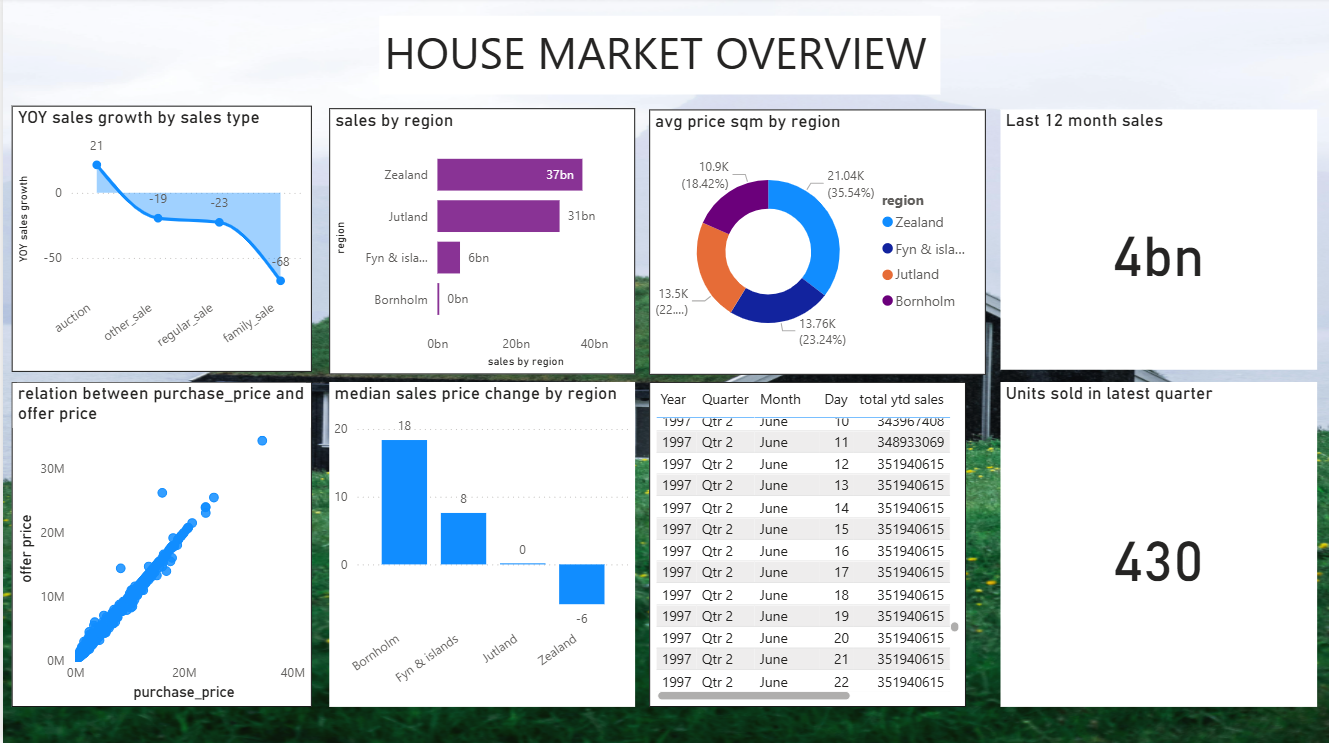

Layout of this report page (visuals, bound fields, positions):
{"tool":"powerbi","page":{"name":" Page 1","canvas":[1280,720],"ordinal":0},"visuals":[{"type":"textbox","box":[363.2,18.3,541.7,75.8],"z":1000},{"type":"lineChart","title":"YOY sales growth by sales type","fields":{"Y":["Housing Data.YOY sales growth"],"Category":["Housing Data.sales_type"]},"box":[8.4,105,289.5,257],"z":1001},{"type":"scatterChart","title":"relation between purchase_price and offer price","fields":{"X":["Housing Data.purchase_price"],"Y":["Housing Data.offer price"]},"box":[8.4,371.6,289.5,313.7],"z":1002},{"type":"barChart","fields":{"Y":["Housing Data.median sales price change"],"Category":["Housing Data.region"]},"box":[314.9,371.6,295.6,313.7],"z":1003},{"type":"card","title":"Units sold in latest quarter","fields":{"Values":["Housing Data.units sold in latest year and quarter"]},"box":[962.7,236.5,305.2,114.6],"z":1004},{"type":"card","title":"Last 12 month sales","fields":{"Values":["Housing Data.last 12 month sales"]},"box":[962.7,108.6,305.2,100.1],"z":1005},{"type":"barChart","title":"sales  by region","fields":{"Y":["measures Table.sales by region"],"Category":["Housing Data.region"]},"box":[314.9,107.4,295.6,257],"z":1006},{"type":"donutChart","fields":{"Y":["measures Table.avg price sqm"],"Category":["Housing Data.region"]},"box":[623.7,108.6,324.5,255.8],"z":1007},{"type":"barChart","title":"offer to sqm ratio by sales type","fields":{"Y":["Housing Data.offer to sqm ratio"],"Category":["Housing Data.sales_type"]},"box":[623.7,371.6,324.5,313.7],"z":1008},{"type":"tableEx","fields":{"Values":["Housing Data.date.Variation.Date Hierarchy.Year","Housing Data.date.Variation.Date Hierarchy.Quarter","Housing Data.date.Variation.Date Hierarchy.Month","Housing Data.date.Variation.Date Hierarchy.Day","measures Table.total ytd sales"]},"box":[962.7,364.3,305.2,320.9],"z":1009}]}

Visuals, with their boxes in screenshot pixels (x1, y1, x2, y2), scaled from the page's 1280x720 canvas onto the 1329x743 screenshot:
textbox: pyautogui.locateOnScreen(377, 19, 940, 97)
"YOY sales growth by sales type" lineChart: pyautogui.locateOnScreen(9, 108, 309, 374)
"relation between purchase_price and offer price" scatterChart: pyautogui.locateOnScreen(9, 383, 309, 707)
barChart - Housing Data.median sales price change x Housing Data.region: pyautogui.locateOnScreen(327, 383, 634, 707)
"Units sold in latest quarter" card: pyautogui.locateOnScreen(1000, 244, 1316, 362)
"Last 12 month sales" card: pyautogui.locateOnScreen(1000, 112, 1316, 215)
"sales  by region" barChart: pyautogui.locateOnScreen(327, 111, 634, 376)
donutChart - measures Table.avg price sqm x Housing Data.region: pyautogui.locateOnScreen(648, 112, 984, 376)
"offer to sqm ratio by sales type" barChart: pyautogui.locateOnScreen(648, 383, 984, 707)
tableEx - Housing Data.date.Variation.Date Hierarchy.Year x Housing Data.date.Variation.Date Hierarchy.Quarter: pyautogui.locateOnScreen(1000, 376, 1316, 707)
